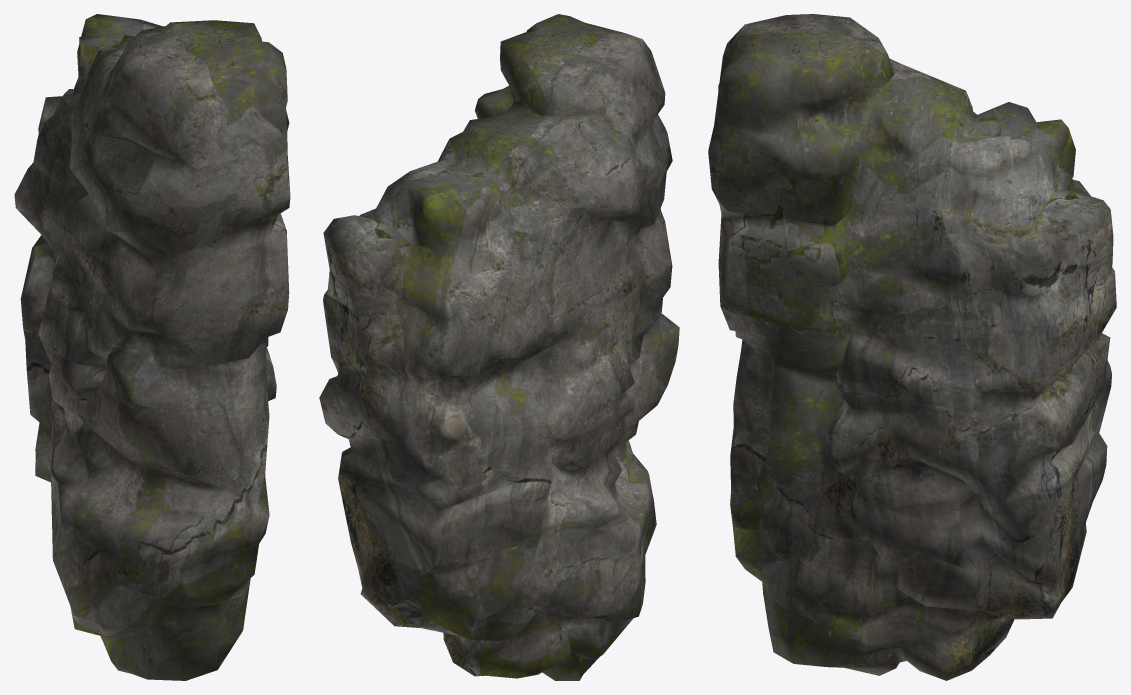
The model's file is Rock24.fbx.
3 renders of one model, left to right at view 1: azimuth 30°, elevation 25°; view 2: azimuth 150°, elevation 25°; view 3: azimuth 270°, elevation 25°, orthographic. The views are drawn at different scales.
Parts seen in each view (by area): view 1: LV_Gnollando_Rock_jungleArea01_SM_LHJ; view 2: LV_Gnollando_Rock_jungleArea01_SM_LHJ; view 3: LV_Gnollando_Rock_jungleArea01_SM_LHJ.
Part boxes in pixels (left/top/right/bottom): LV_Gnollando_Rock_jungleArea01_SM_LHJ: left=14, top=14, right=290, bottom=680; LV_Gnollando_Rock_jungleArea01_SM_LHJ: left=319, top=14, right=679, bottom=680; LV_Gnollando_Rock_jungleArea01_SM_LHJ: left=708, top=14, right=1116, bottom=680.
Bounding box in the file's own units: 1.7 × 4.18 × 2.4.
1 material, 1 textured.
